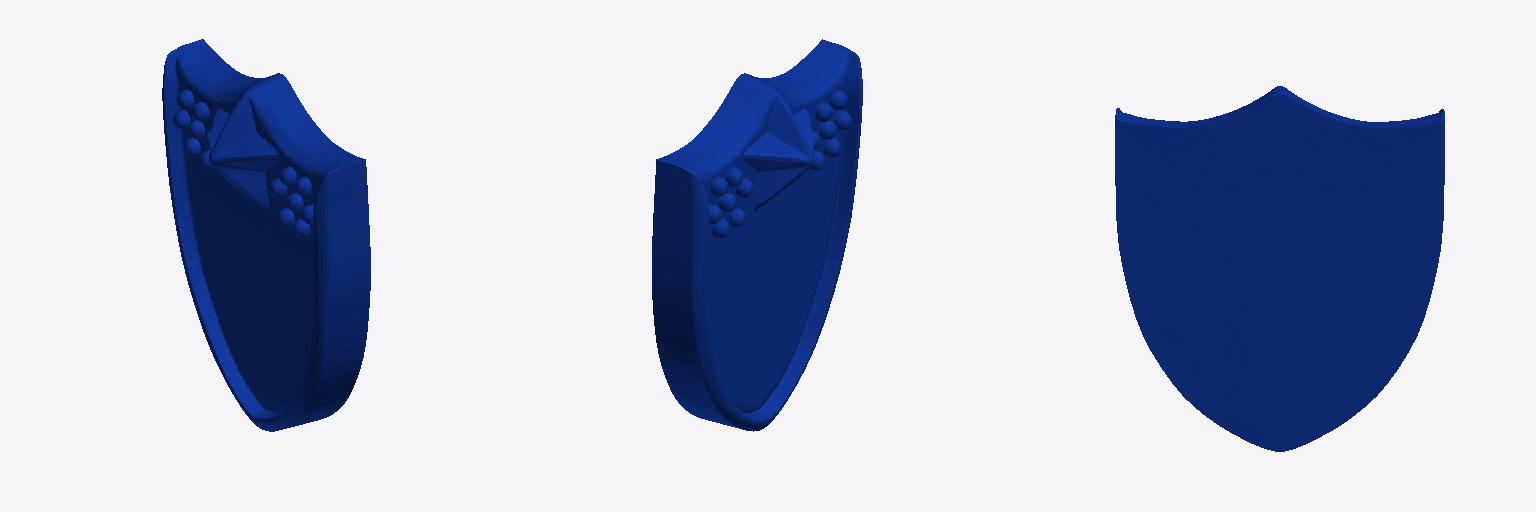
Rendered from shield.obj.
3 views of the same model, side by side, from view 1: azimuth 30°, elevation 25°; view 2: azimuth 150°, elevation 25°; view 3: azimuth 270°, elevation 25° (orthographic).
Visible parts, largest first — view 1: 19329_A_Shield_with_a_Raised_Star_v1; view 2: 19329_A_Shield_with_a_Raised_Star_v1; view 3: 19329_A_Shield_with_a_Raised_Star_v1.
Boxes of the visible parts, box(x1,y1,x2,y2) form: 19329_A_Shield_with_a_Raised_Star_v1: box(162, 39, 370, 431); 19329_A_Shield_with_a_Raised_Star_v1: box(652, 39, 862, 431); 19329_A_Shield_with_a_Raised_Star_v1: box(1115, 86, 1444, 451).
Bounding box in the file's own units: 0.0806 × 0.2942 × 0.2518.